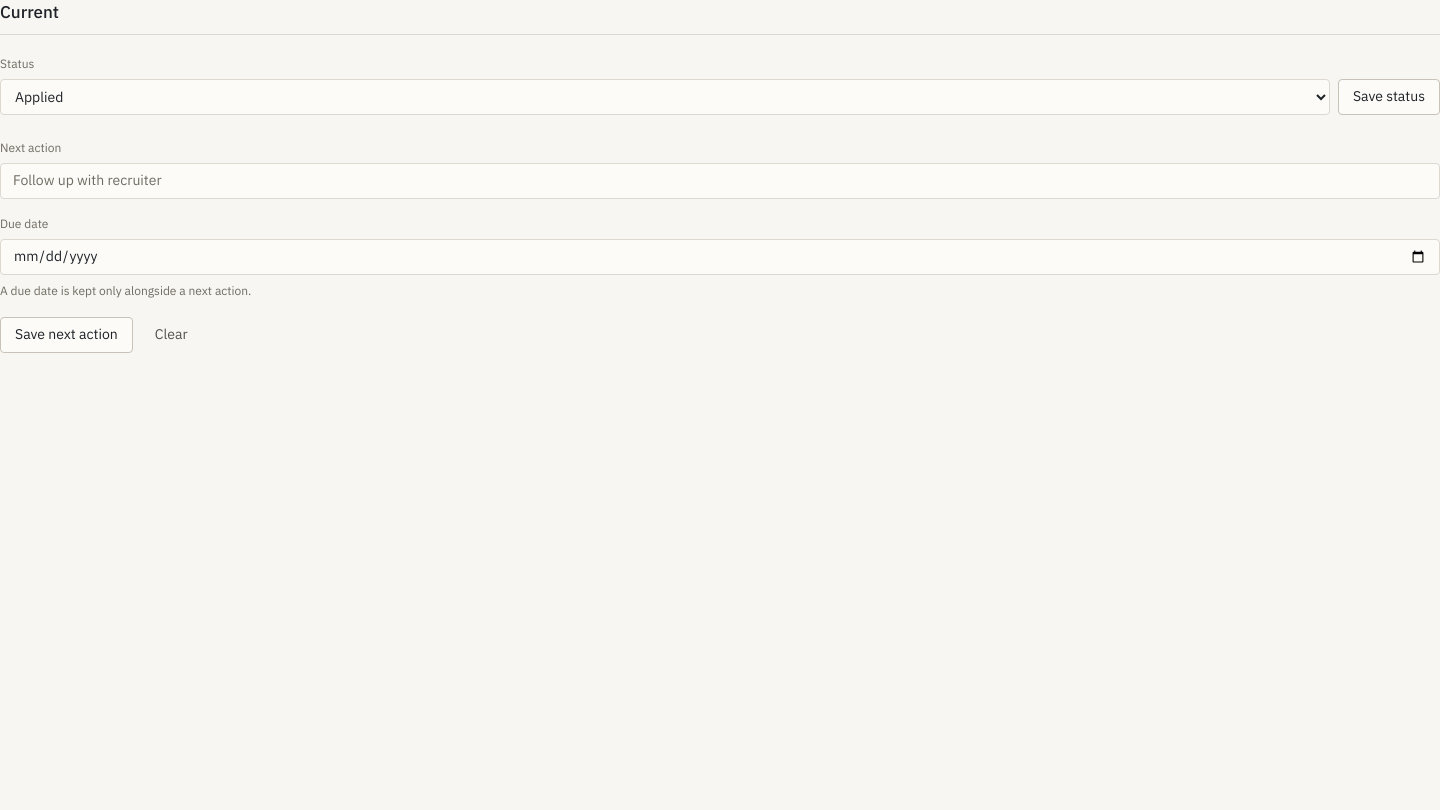
Test: an unusual status change is confirmed before it saves › saves exactly once when the change is confirmed
The image size is (1440, 810).
Step 1. Select "Interested" in the dropdown labelled "Status" → coordinates (665, 96), box 0,78 -> 1330,114
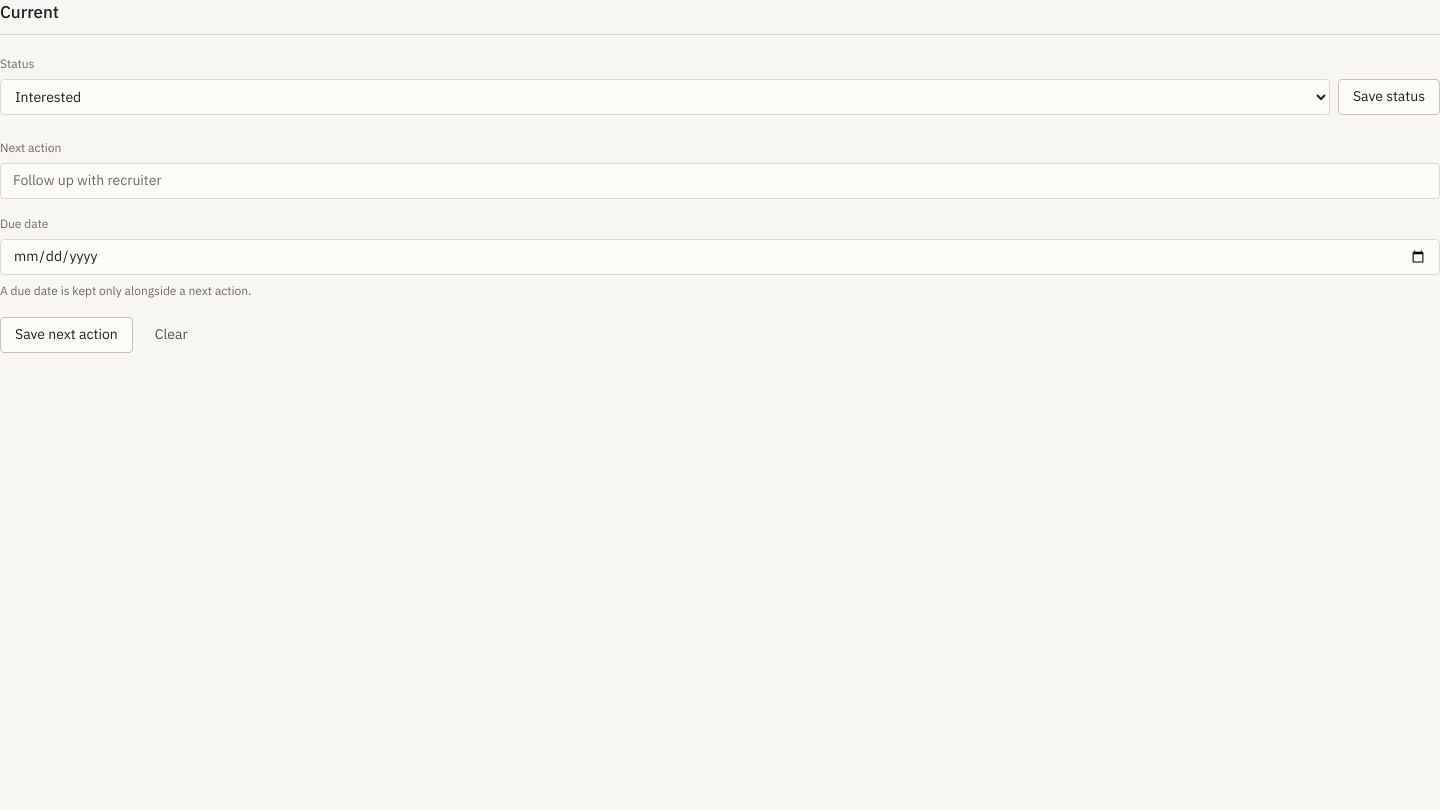
Step 2. Click the button "Save status" → coordinates (1389, 96), box 1338,78 -> 1439,114
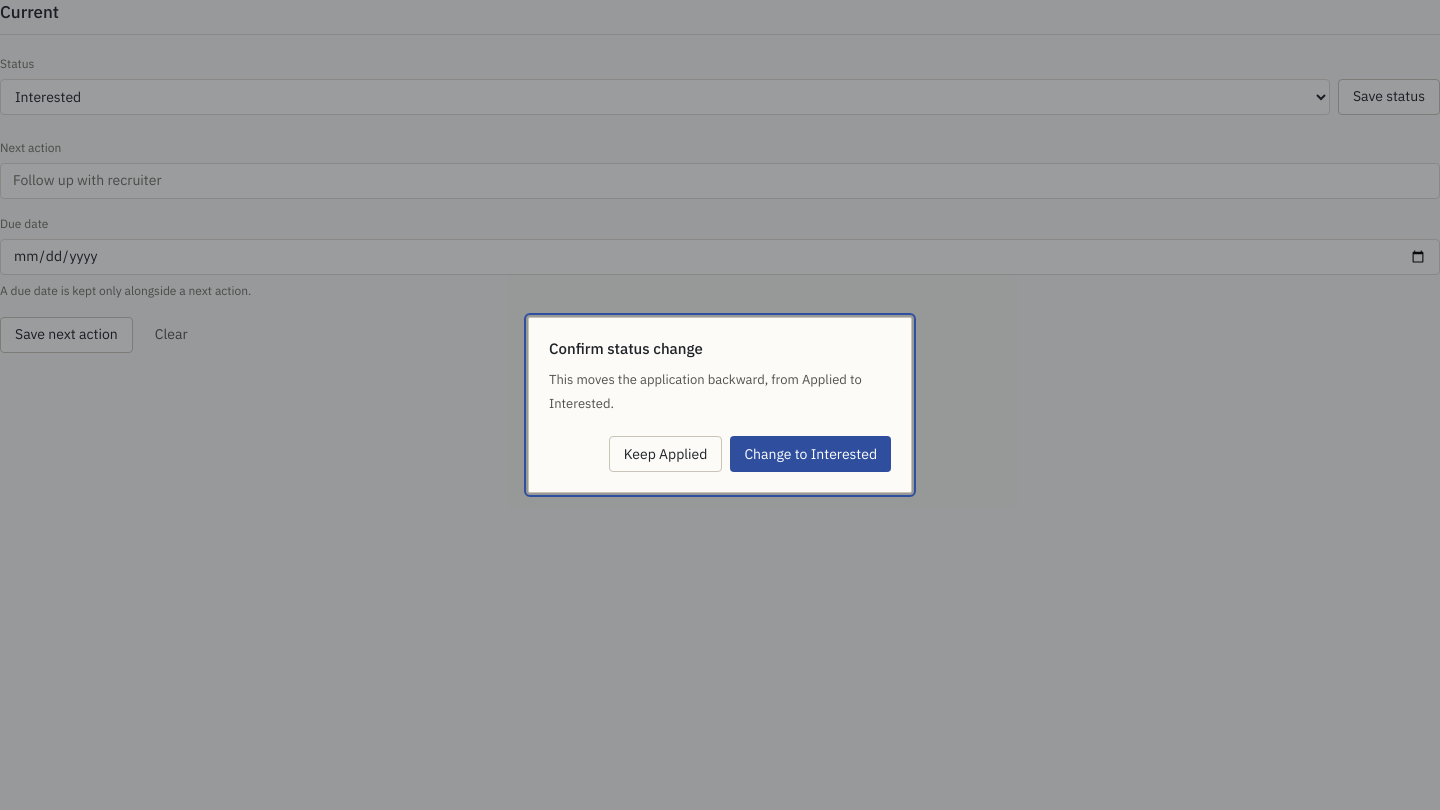
Step 3. Click the button "Change to Interested" → coordinates (811, 454), box 730,436 -> 891,472
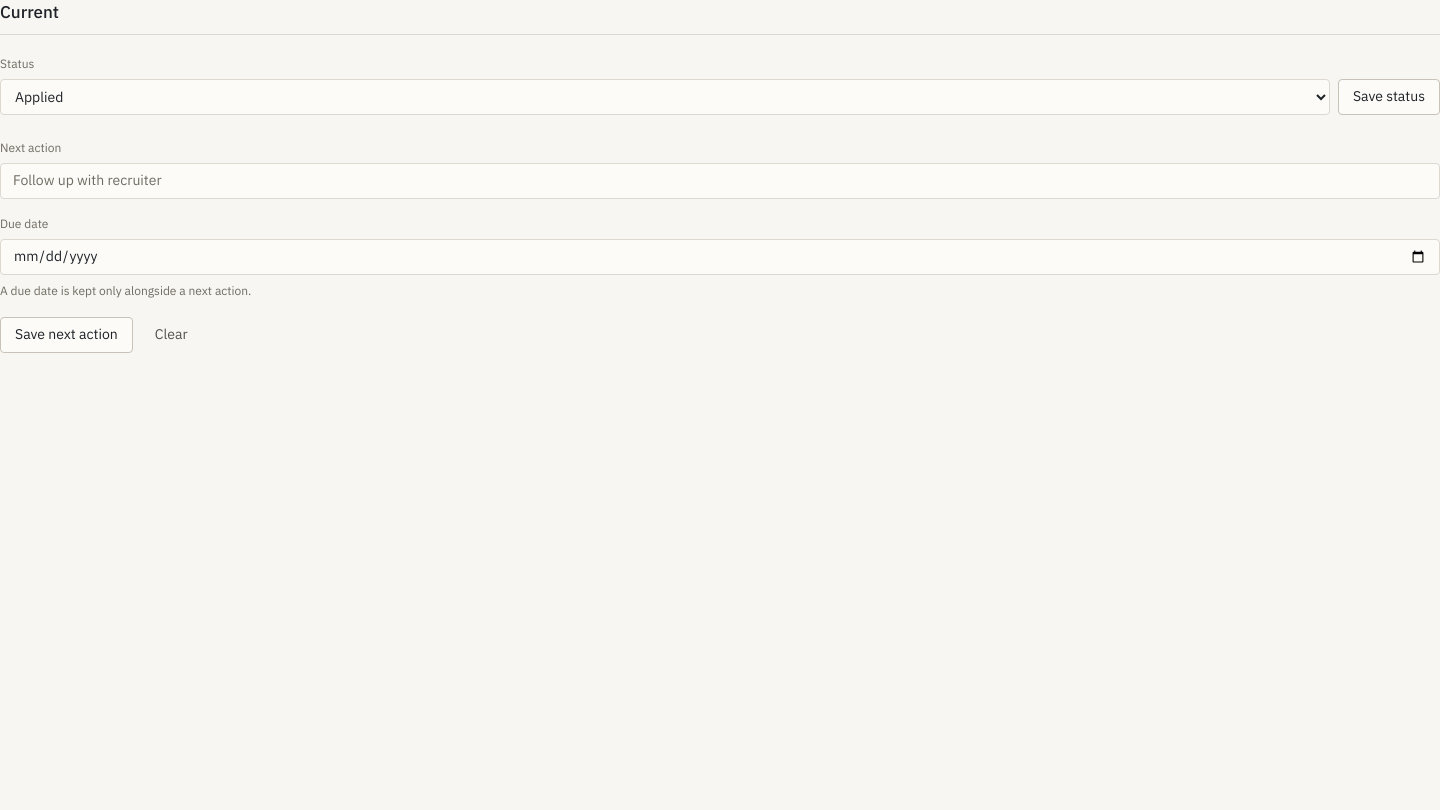
Now the heading "Confirm status change" is gone
